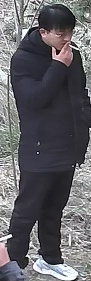smoking: (14, 2, 83, 97)
